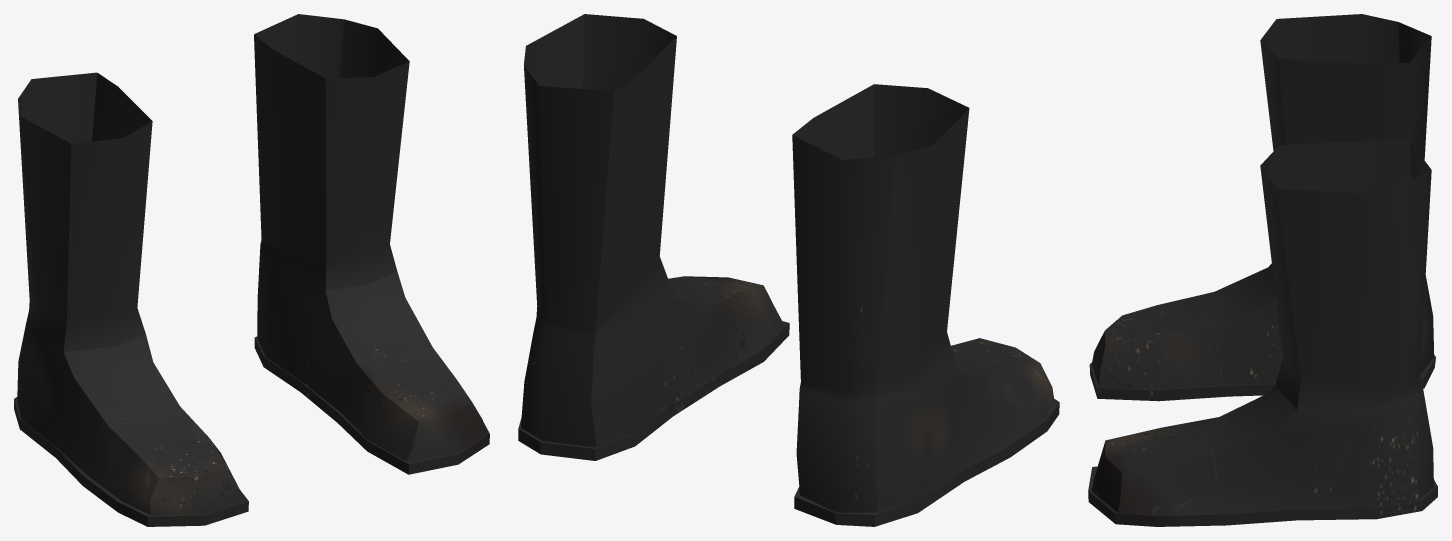
The model's file is gentlemanShoes.fbx.
The picture shows the model from 3 angles, left to right: view 1: azimuth 30°, elevation 25°; view 2: azimuth 150°, elevation 25°; view 3: azimuth 270°, elevation 25°; orthographic projection. The views are drawn at different scales.
Parts seen in each view (by area): view 1: gentBoots; view 2: gentBoots; view 3: gentBoots.
Boxes of the visible parts, x1=… form: gentBoots: x1=14, y1=14, x2=489, y2=526; gentBoots: x1=518, y1=14, x2=1059, y2=526; gentBoots: x1=1088, y1=14, x2=1437, y2=526.
Bounding box in the file's own units: 35.45 × 30.53 × 28.74.
1 material, 1 textured.
